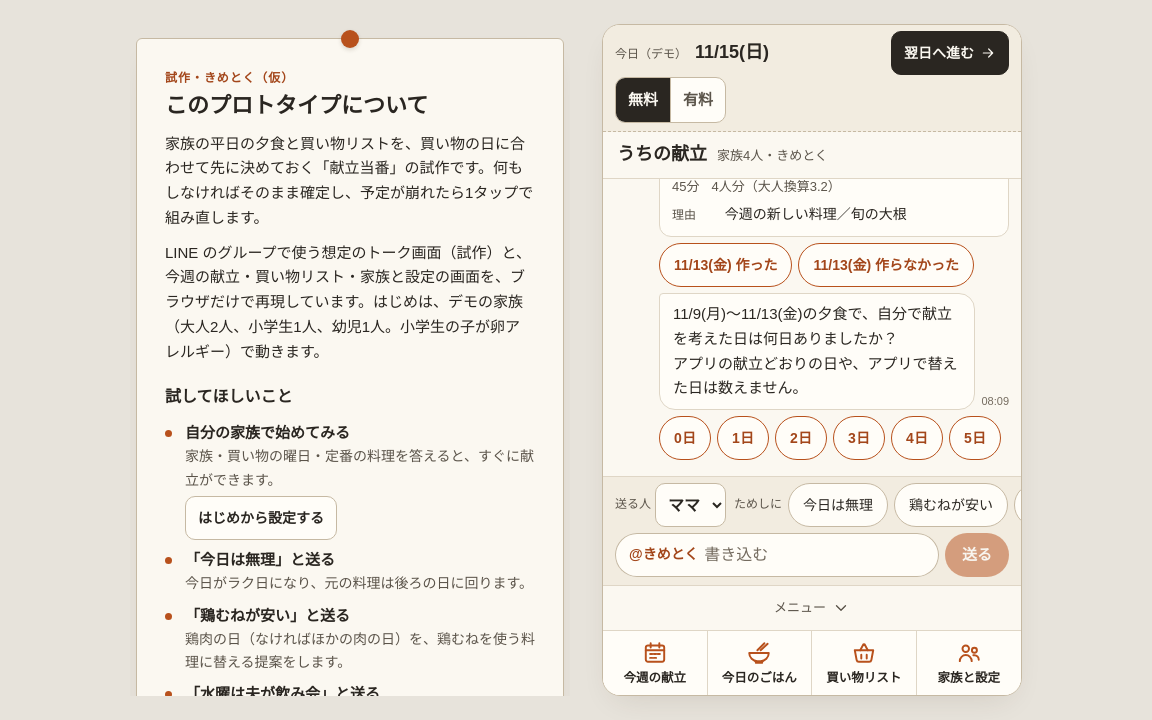
Test case: PRD-4：メニューの「今週の献立」は、これからの献立がある週を開く › 無料版の日曜（来週の献立ができた日）は来週を開き、上に終わった今週の振り返りを出す。［今週］で戻れる
(page scrolled)
What coordinates should you click on to do the following:
click the button "今週の献立"
I would click on:
 (655, 663)
Its box is [603,631,708,695].
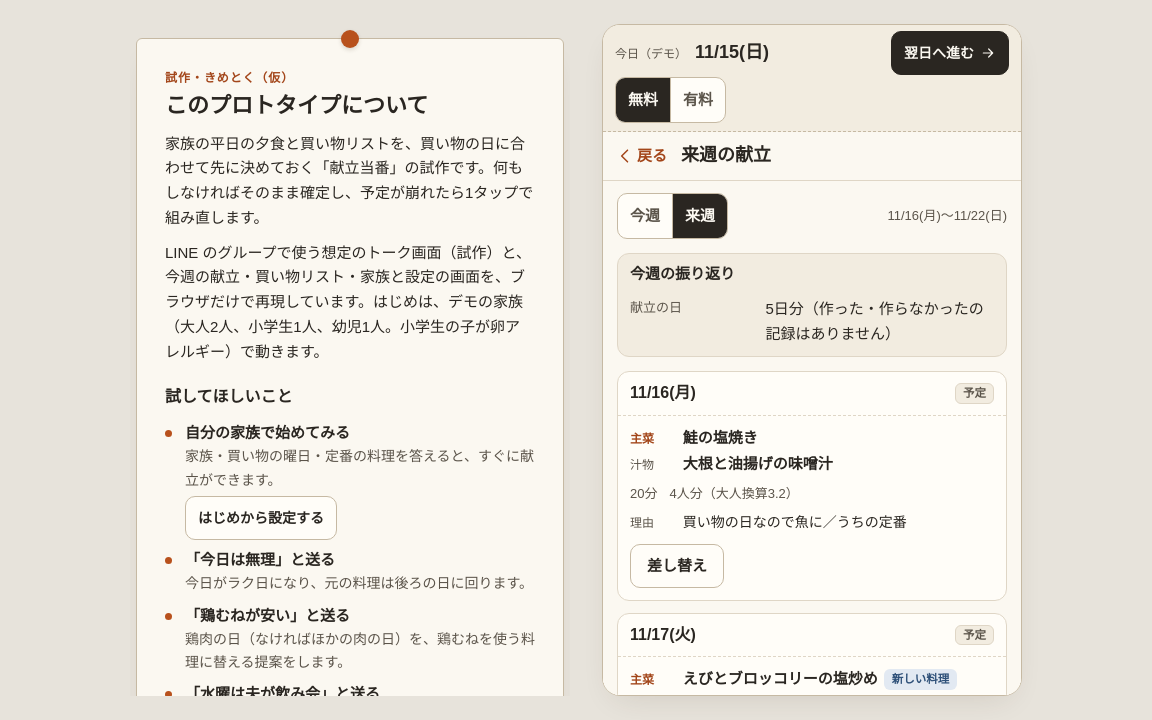
expect the heading with class "sheet-title" reads "来週の献立": met, box [681,145,771,165]
expect the text with class "range" reads "11/16(月)〜11/22(日)": met, box [888,205,1007,227]
expect the element "今週の振り返り" is shown: met, box [617,253,1007,357]
What coordinates should you click on to do the following:
click the button "今週"
I would click on:
 (645, 216)
Its box is [618,194,672,238].
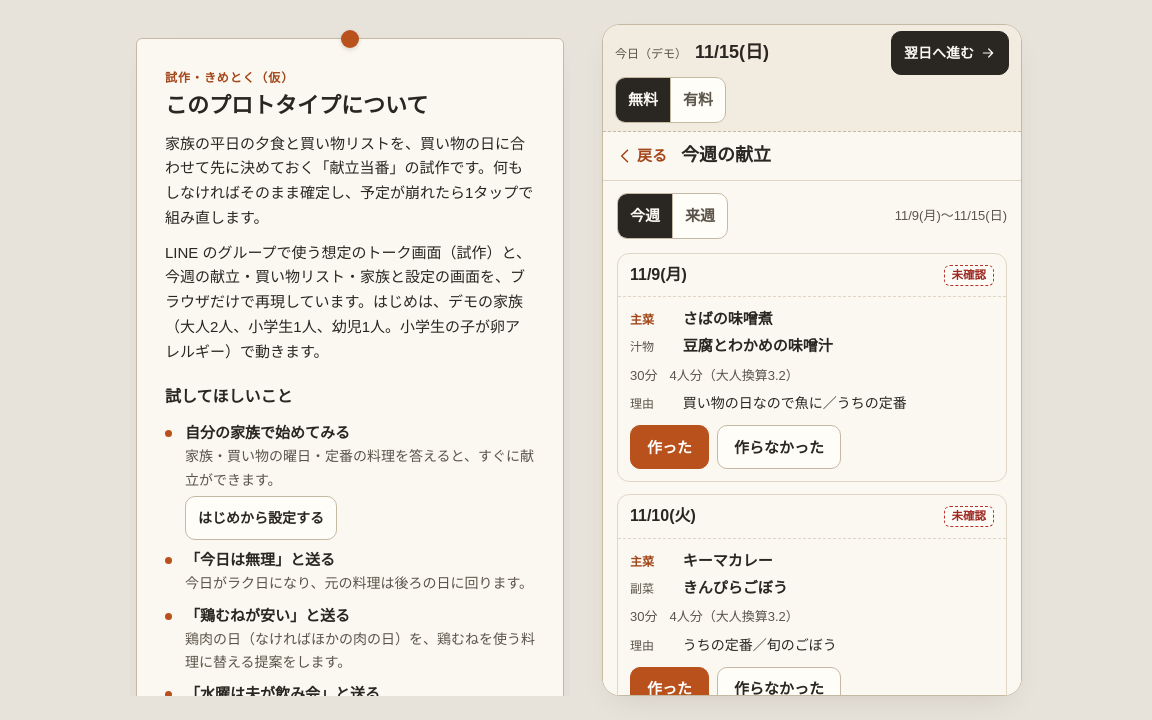
expect the text "今週の献立" is shown: met, box [624,670,686,686]
expect the text with class "range" reads "11/9(月)〜11/15(日)": met, box [895,205,1007,227]
expect the heading "今週の振り返り" is gone: met
